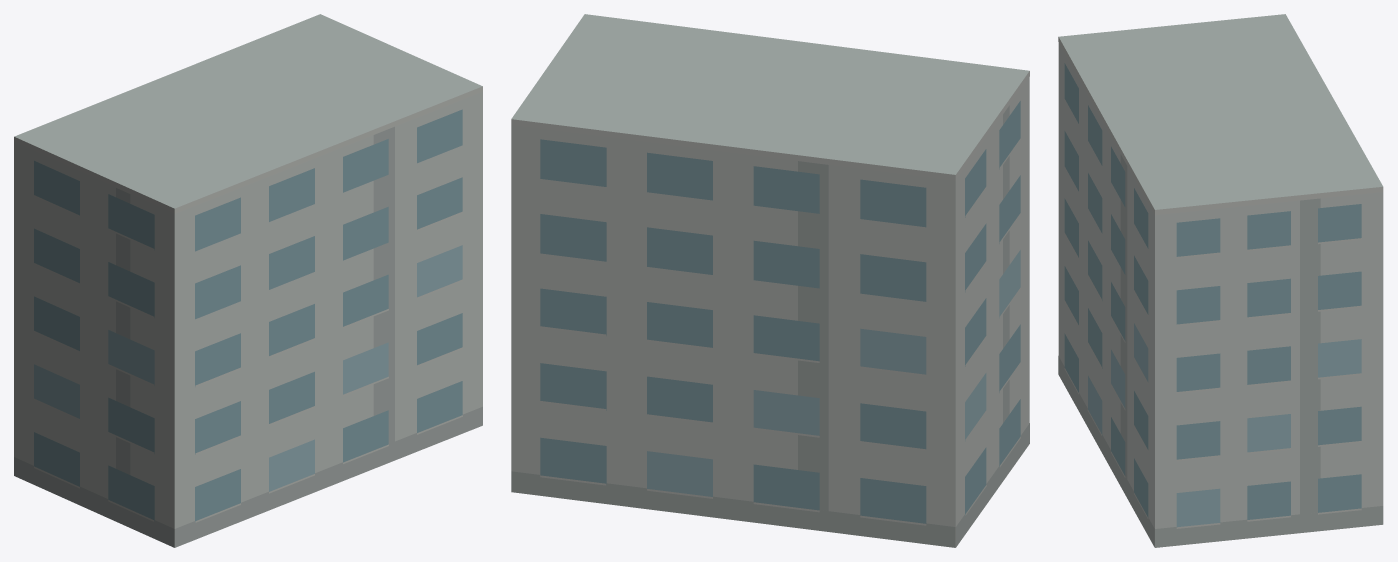
The model's file is survey-upis-32912502.glb.
3 views of the same model, side by side, from view 1: azimuth 30°, elevation 25°; view 2: azimuth 150°, elevation 25°; view 3: azimuth 270°, elevation 25° (orthographic). The views are drawn at different scales.
Visible parts, largest first — view 1: survey-upis-32912502.tmp; view 2: survey-upis-32912502.tmp; view 3: survey-upis-32912502.tmp.
Part boxes in pixels (bbox=[...]): survey-upis-32912502.tmp: bbox=[14, 14, 482, 547]; survey-upis-32912502.tmp: bbox=[511, 14, 1029, 547]; survey-upis-32912502.tmp: bbox=[1058, 14, 1383, 547].
Size of the model in its own units: 19.16 by 15.4 by 13.42.
